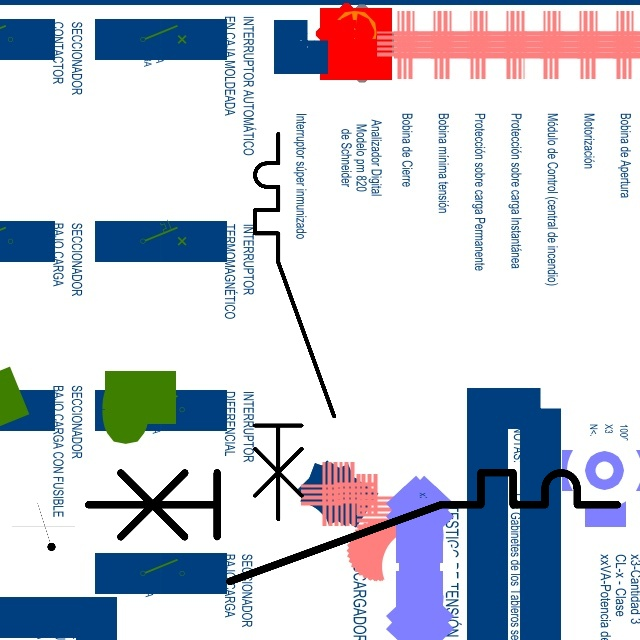interruptor_termomagnetico: (74, 459, 630, 595), (245, 124, 344, 529)
